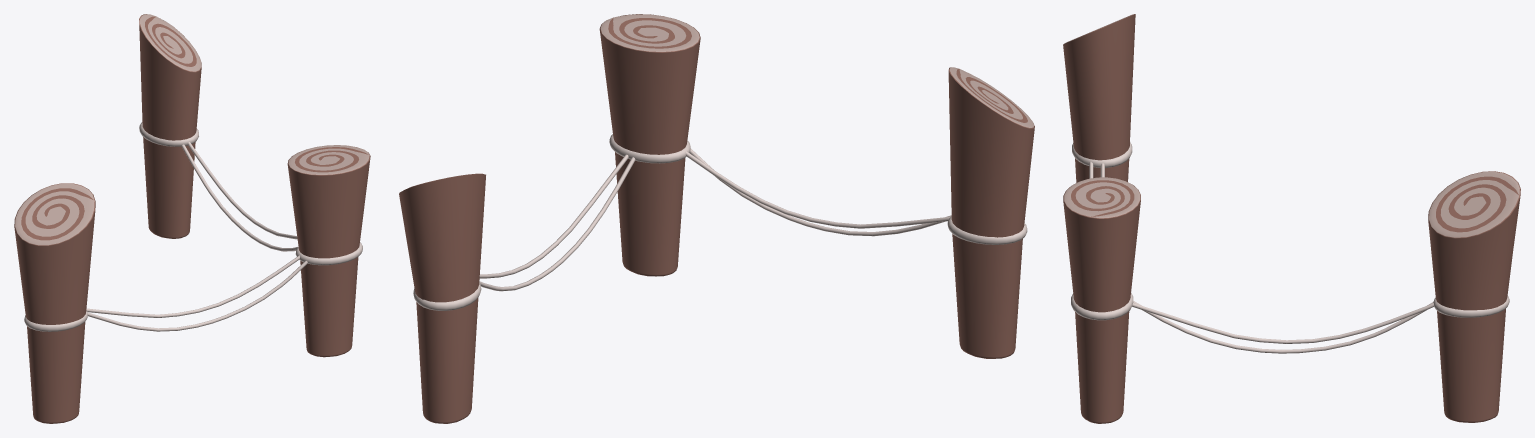
Rendered from Farm_3_Fence_1.glb.
The picture shows the model from 3 angles, left to right: view 1: azimuth 30°, elevation 25°; view 2: azimuth 150°, elevation 25°; view 3: azimuth 270°, elevation 25°; orthographic projection. The views are drawn at different scales.
Visible parts, largest first — view 1: Farm_3_Fence_1; view 2: Farm_3_Fence_1; view 3: Farm_3_Fence_1.
Boxes of the visible parts, left/top/right/bottom form: Farm_3_Fence_1: left=14, top=14, right=370, bottom=423; Farm_3_Fence_1: left=399, top=14, right=1034, bottom=423; Farm_3_Fence_1: left=1063, top=14, right=1520, bottom=423.
Size of the model in its own units: 2.2 by 1.35 by 2.2.
1 material, 1 textured.
